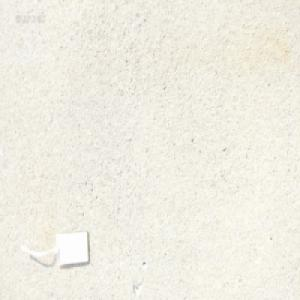LuggageTag: (17, 228, 91, 270)
